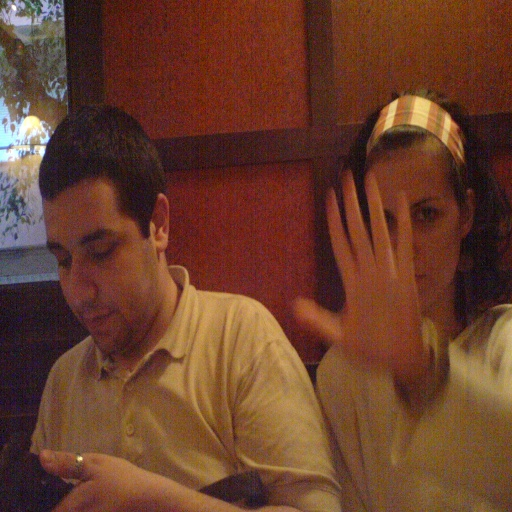hand: (303, 132, 458, 403), (37, 446, 156, 511)
